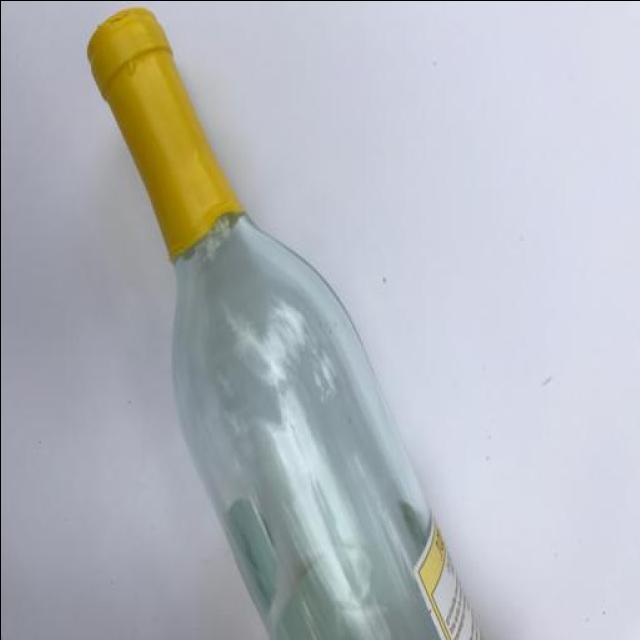glass: (87, 6, 474, 640)
